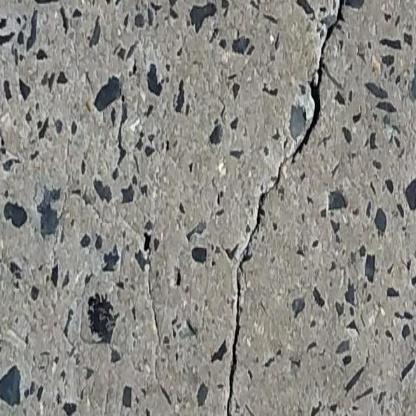Cracks: (224, 158, 287, 416), (288, 0, 353, 169)
